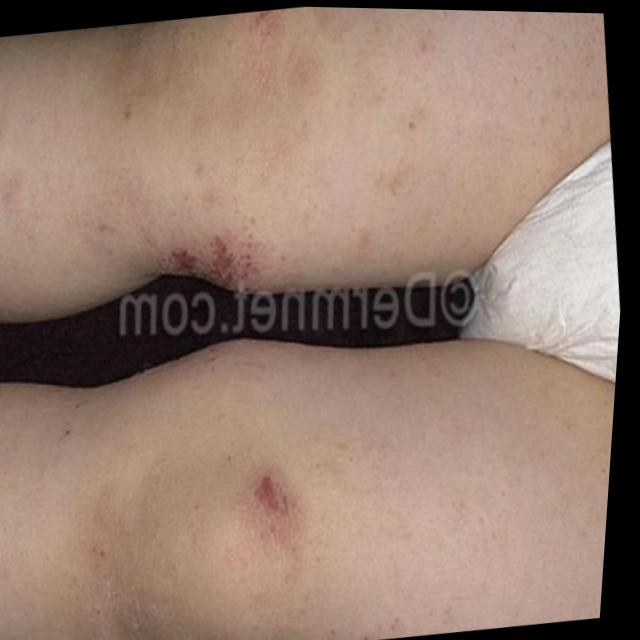Eczema: (116, 217, 269, 320), (211, 5, 326, 75), (238, 459, 304, 536)
